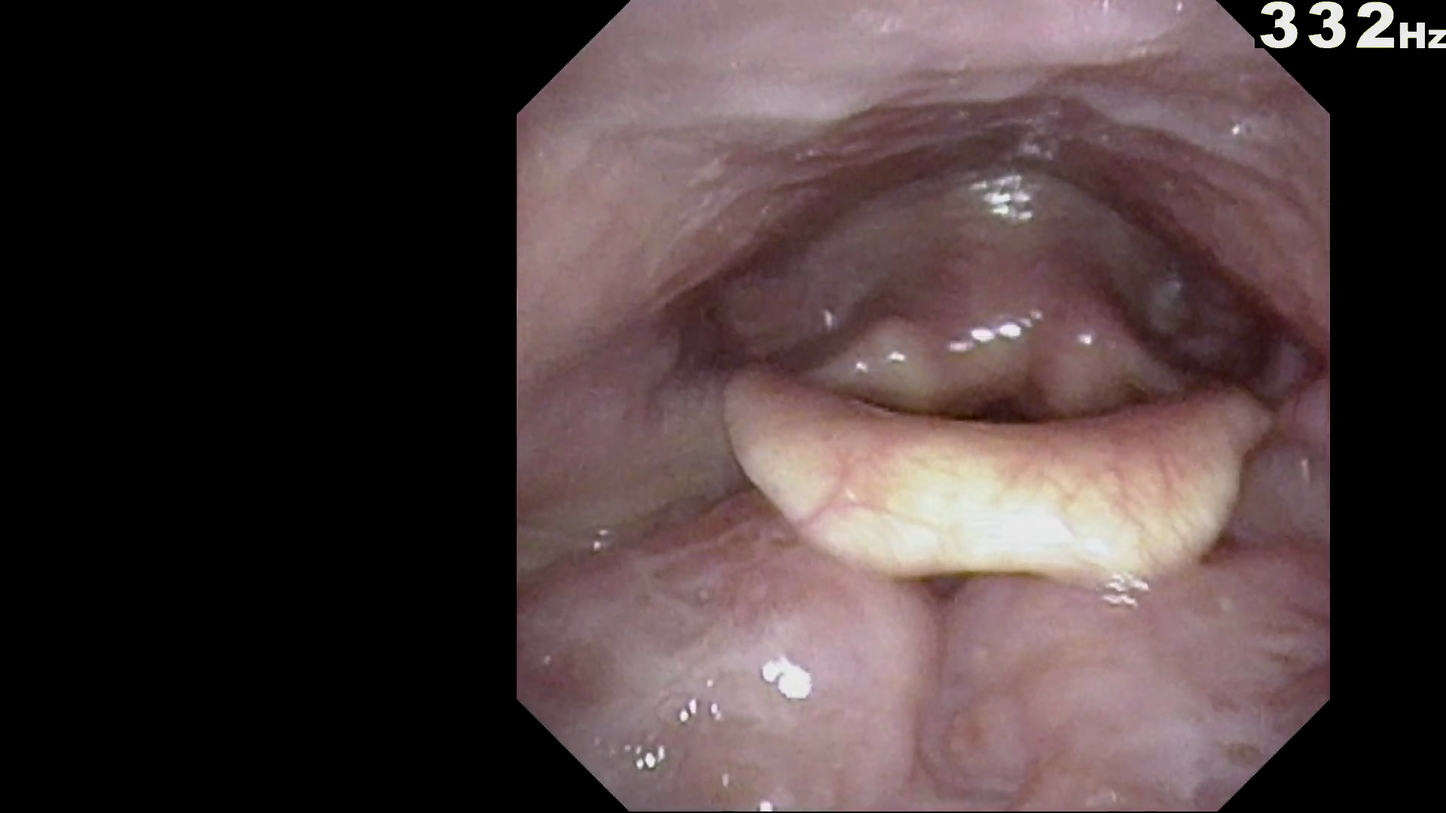epiglottis: (696, 360, 1299, 599)
trachea: (937, 330, 1084, 484)
